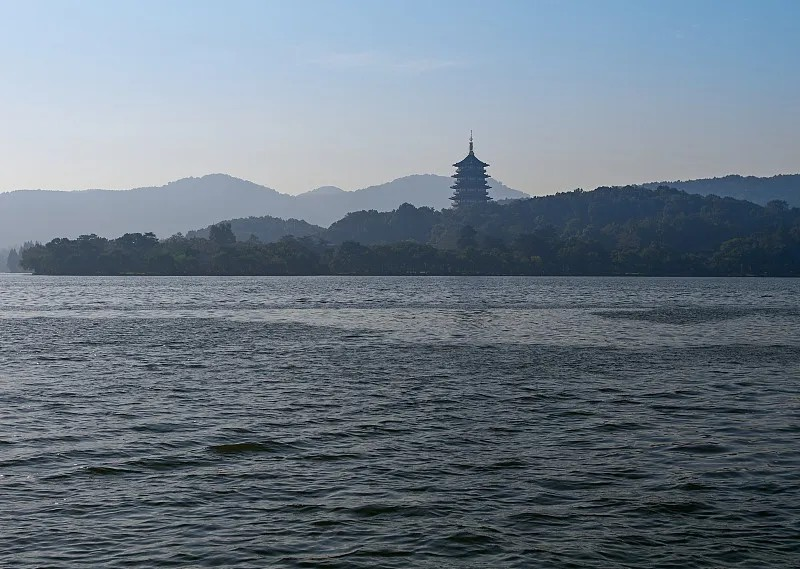Leifeng: (449, 129, 492, 211)
